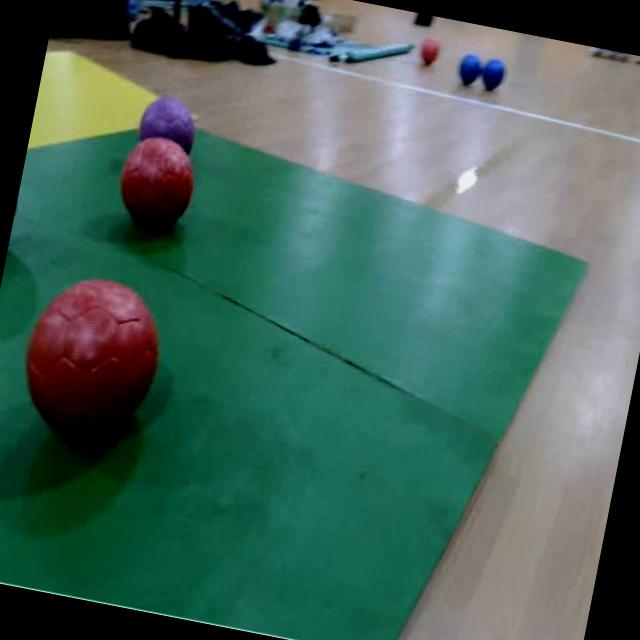blue_ball: (480, 52, 508, 96), (454, 50, 483, 89)
purple_ball: (136, 91, 205, 148)
red_ball: (14, 271, 173, 460), (112, 146, 198, 234), (418, 38, 441, 68)
